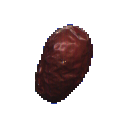gd: (28, 17, 109, 108)
